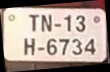character: (23, 37, 35, 55), (41, 14, 52, 33), (58, 38, 70, 55), (84, 38, 96, 55), (28, 13, 39, 31), (75, 14, 86, 32), (46, 37, 57, 55), (71, 38, 82, 55), (63, 14, 72, 32)
